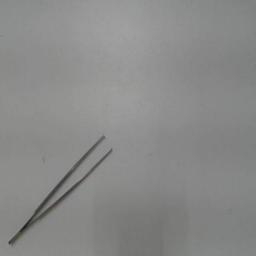Gillies Toothed Dissector: (4, 130, 118, 248)
